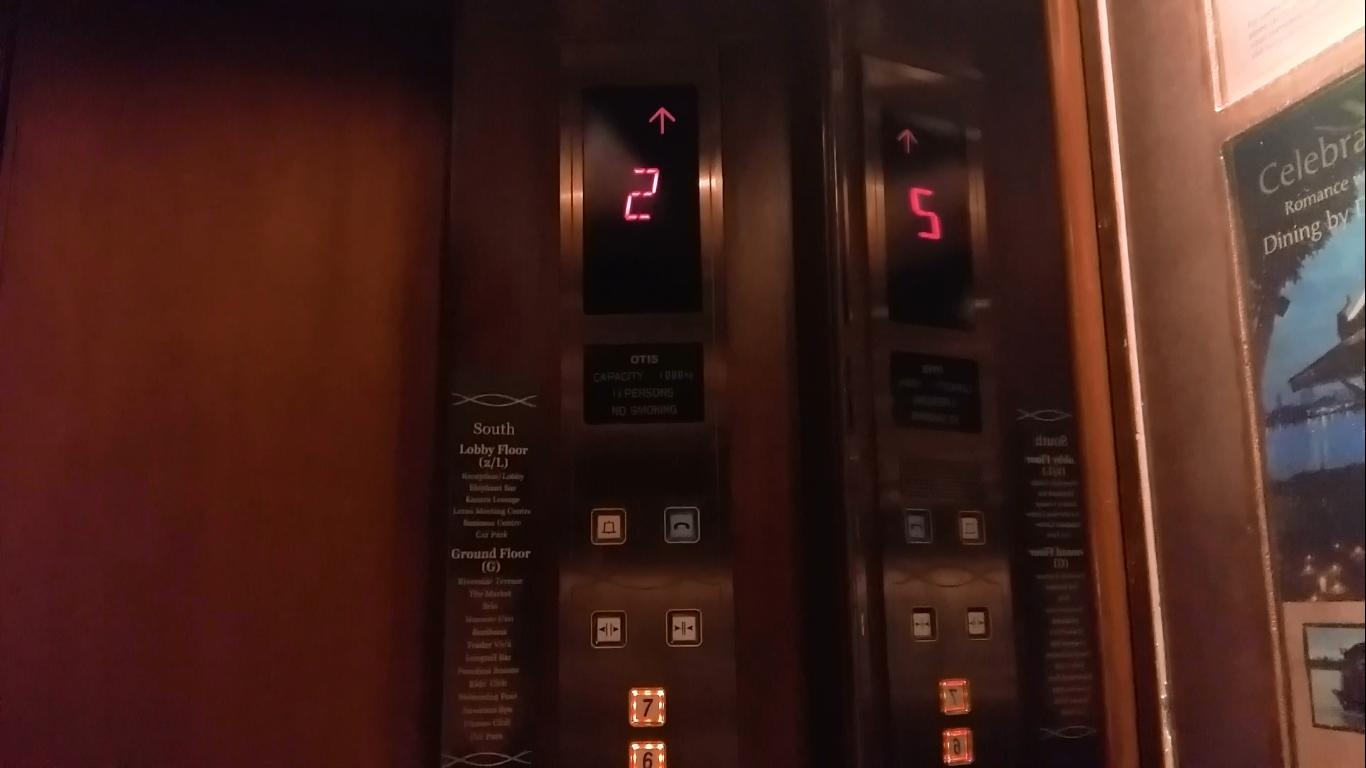6: (625, 737, 670, 768)
7: (624, 683, 670, 732)
alarm: (586, 504, 631, 548), (953, 506, 989, 550)
call: (661, 504, 704, 548), (899, 505, 933, 548)
close: (663, 604, 705, 650), (907, 603, 940, 646)
led: (575, 74, 708, 321), (875, 106, 977, 335)
open: (586, 606, 630, 652), (963, 603, 994, 642)
unknown: (934, 674, 974, 718), (939, 724, 976, 768)
